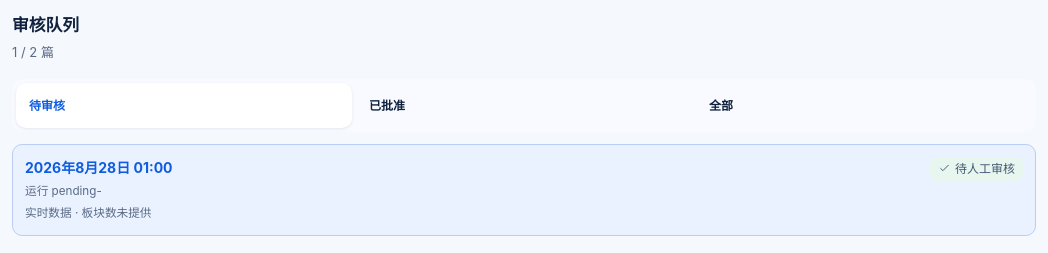
filters the compact queue without changing its selected run
This screenshot has width=1048, height=253.
Step 1. Click the button "已批准" → (387, 105), box [356,83,692,128]
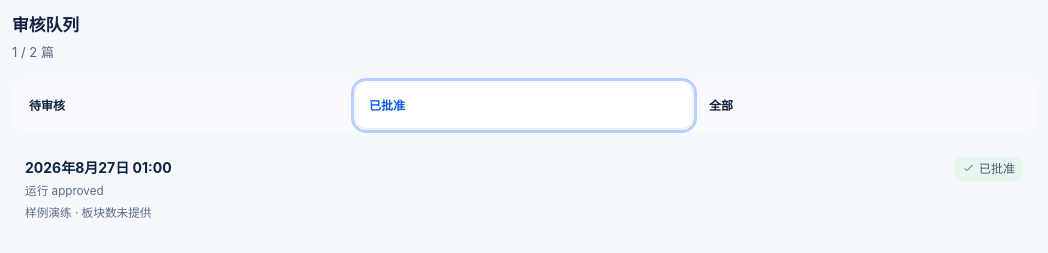
Now the button with aria-label "approved-run" is shown, box [12,144,1036,236]
